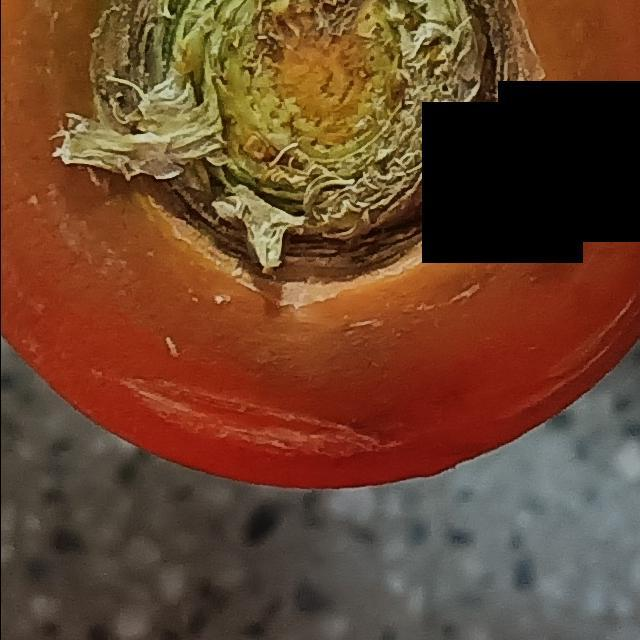carrot: (1, 1, 640, 515)
